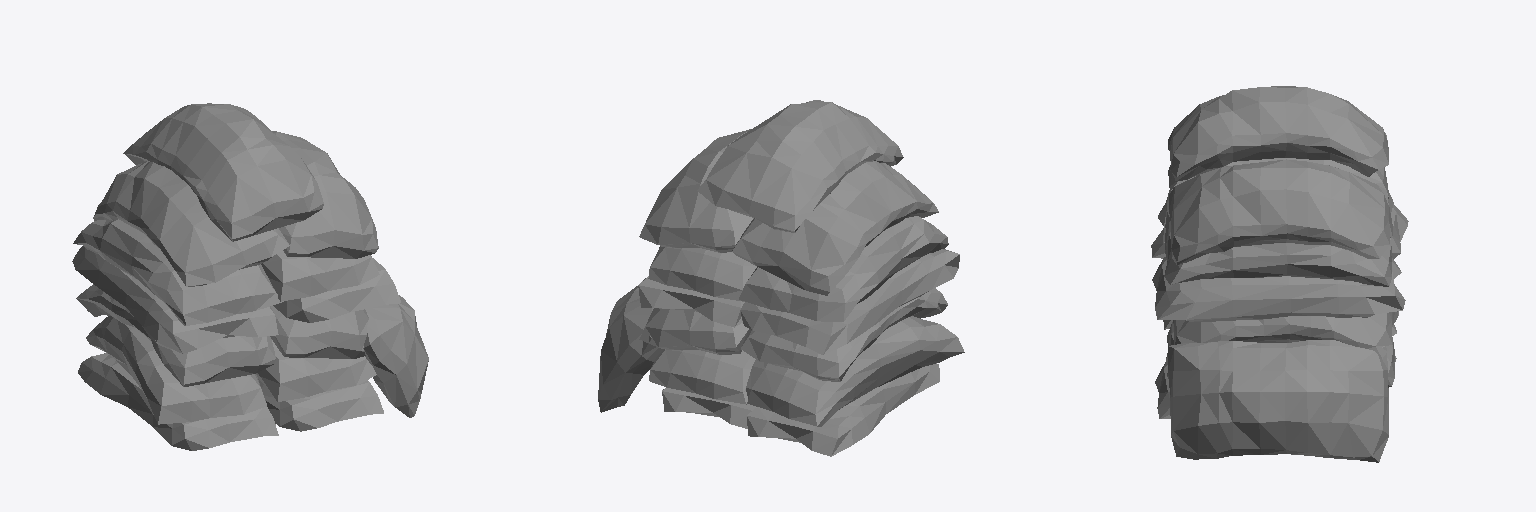
The model's file is sandbag_med.obj.
3 views of the same model, side by side, from view 1: azimuth 30°, elevation 25°; view 2: azimuth 150°, elevation 25°; view 3: azimuth 270°, elevation 25° (orthographic).
Visible parts, largest first — view 1: sandbag_mes; view 2: sandbag_mes; view 3: sandbag_mes.
Part boxes in pixels (x1,y1,x2,y2): sandbag_mes: (72,103,428,450); sandbag_mes: (598,100,964,456); sandbag_mes: (1151,86,1408,462).
Size of the model in its own units: 3.7 by 3.58 by 2.79.